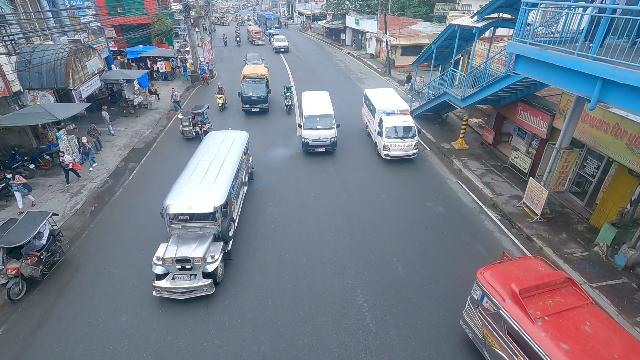bus: (256, 11, 282, 38)
car: (272, 33, 290, 54), (242, 52, 266, 66)
jeepney: (150, 129, 254, 301), (246, 26, 266, 45), (213, 13, 230, 26)
motorcycle: (283, 84, 294, 117), (215, 84, 225, 110), (235, 34, 242, 46), (222, 34, 228, 46), (235, 25, 241, 36), (268, 32, 273, 43), (248, 18, 252, 28)
truck: (238, 56, 271, 112)
van: (359, 82, 420, 166), (297, 91, 340, 158)
